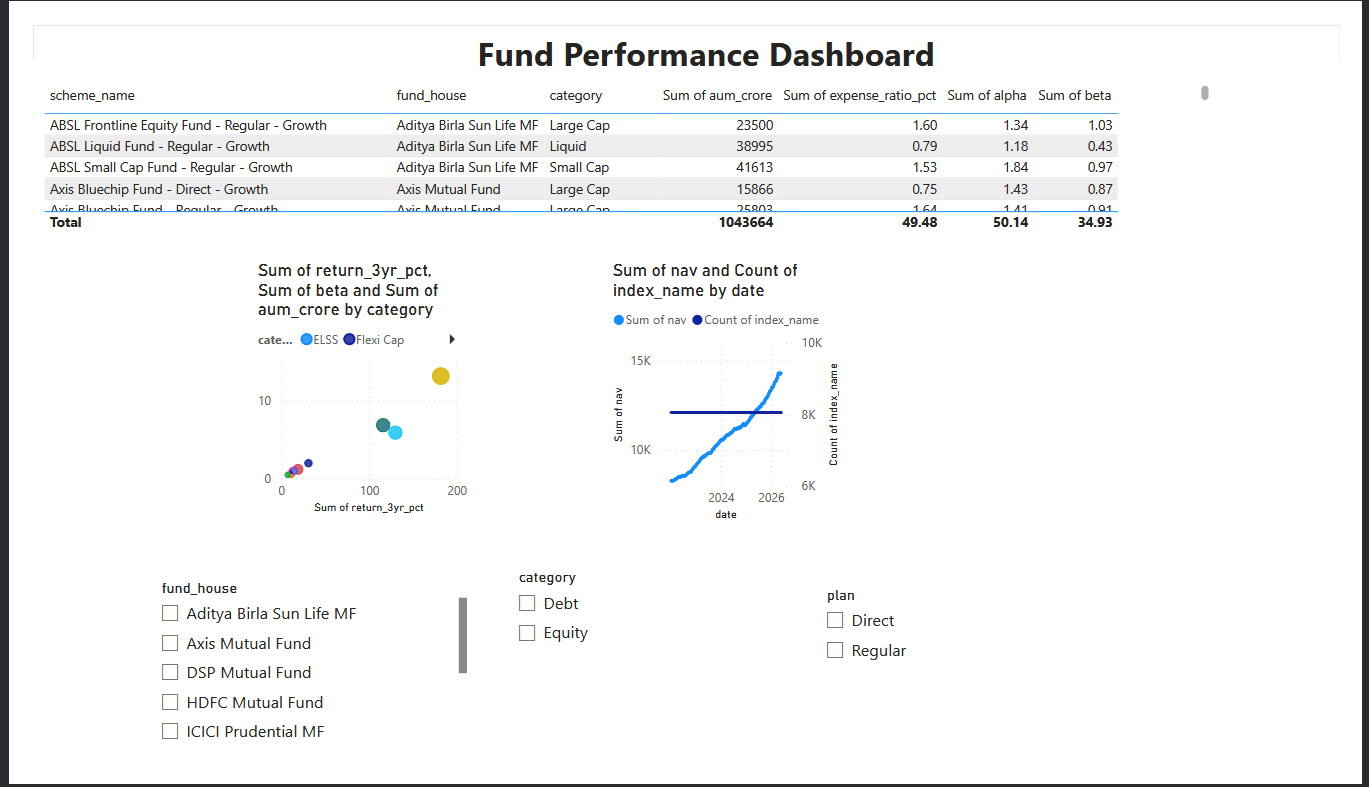

The page's visual inventory and layout, read from the dashboard file:
{"tool":"powerbi","page":{"name":"Fund Performance","canvas":[1280,720],"ordinal":1},"visuals":[{"type":"textbox","box":[0,0,1280,720],"z":0},{"type":"tableEx","fields":{"Values":["scheme_performance_clean.scheme_name","scheme_performance_clean.fund_house","scheme_performance_clean.category","Sum(scheme_performance_clean.aum_crore)","Sum(scheme_performance_clean.expense_ratio_pct)","Sum(scheme_performance_clean.alpha)","Sum(scheme_performance_clean.beta)"]},"box":[5,52.5,1152.5,155],"z":1000},{"type":"scatterChart","fields":{"X":["Sum(scheme_performance_clean.return_3yr_pct)"],"Y":["Sum(scheme_performance_clean.beta)"],"Size":["Sum(scheme_performance_clean.aum_crore)"],"Series":["scheme_performance_clean.category"]},"box":[215,230,215,252.5],"z":2000},{"type":"lineChart","fields":{"Category":["nav_history_clean.date"],"Y":["Sum(nav_history_clean.nav)"],"Y2":["CountNonNull(10_benchmark_indices_clean (2).index_name)"]},"box":[562.5,230,232.5,260],"z":3000},{"type":"slicer","fields":{"Values":["01_fund_master_clean.fund_house"]},"box":[112.5,537.5,317.5,175],"z":4000},{"type":"slicer","fields":{"Values":["01_fund_master_clean.category"]},"box":[462.5,527.5,302.5,192.5],"z":5000},{"type":"slicer","fields":{"Values":["01_fund_master_clean.plan"]},"box":[765,545,290,175],"z":6000}]}

Visuals, with their boxes in screenshot pixels (x1, y1, x2, y2), scaled from the page's 1280x720 canvas onto the 1369x787 screenshot:
textbox: BBox(0, 0, 1368, 786)
tableEx - scheme_performance_clean.scheme_name x scheme_performance_clean.fund_house: BBox(5, 57, 1238, 227)
scatterChart - Sum(scheme_performance_clean.return_3yr_pct) x Sum(scheme_performance_clean.beta): BBox(230, 251, 460, 527)
lineChart - nav_history_clean.date x Sum(nav_history_clean.nav): BBox(602, 251, 850, 536)
slicer - 01_fund_master_clean.fund_house: BBox(120, 588, 460, 779)
slicer - 01_fund_master_clean.category: BBox(495, 577, 818, 786)
slicer - 01_fund_master_clean.plan: BBox(818, 596, 1128, 786)
